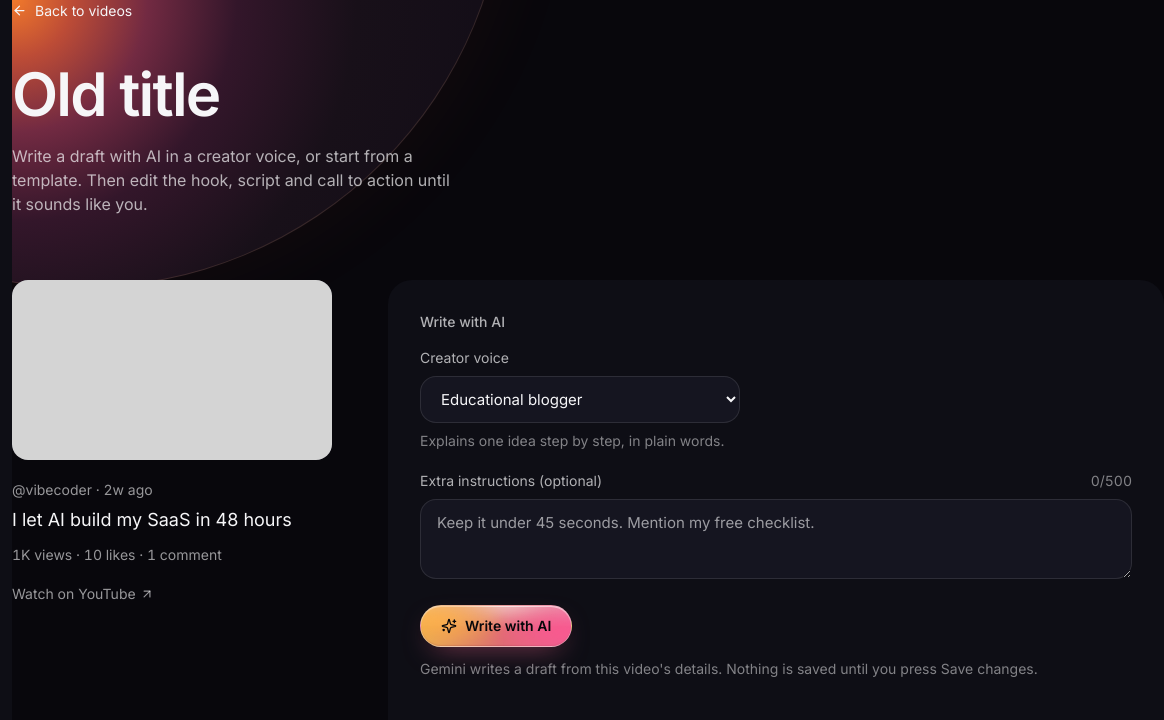
Test case: Write with AI: writes left today › shows nothing before the first write, then the remaining line under the helper text
expect the heading "Write with AI" is shown: met, box [420,313,505,330]
Click the button "Write with AI".
click(496, 626)  # box [420,605,572,647]
(page scrolled)
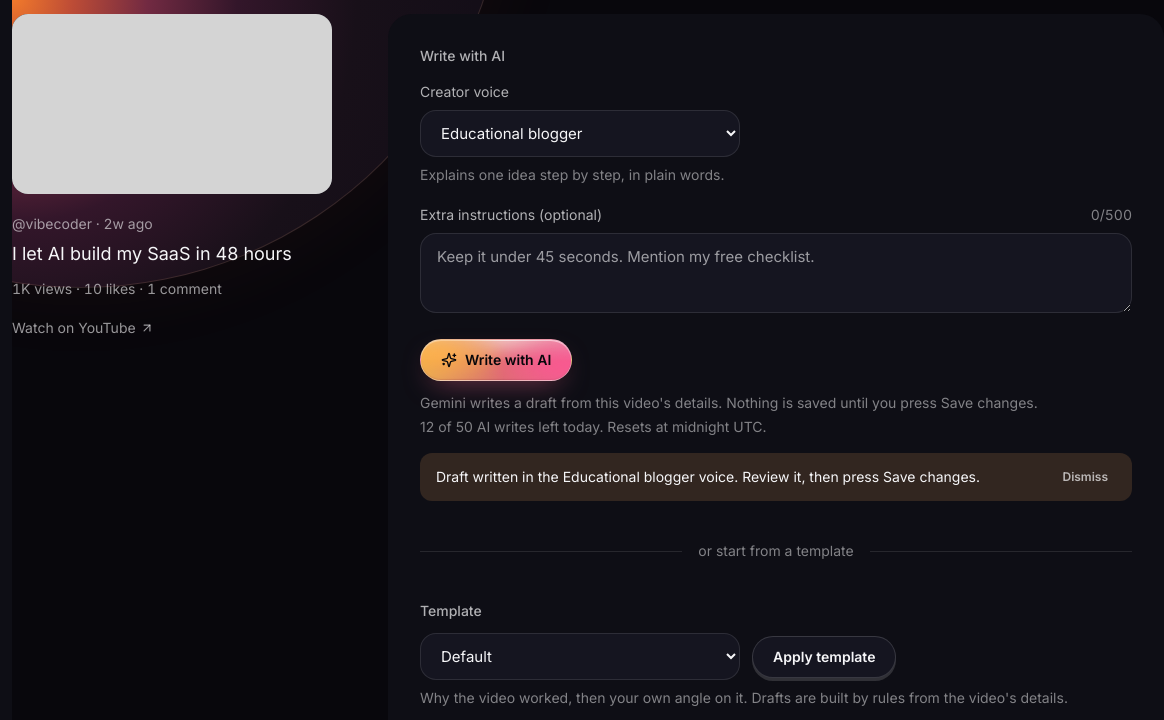
expect the text with id "ai-writes-left" reads "12 of 50 AI writes left today. Resets at midnight UTC.": met, box [420,418,767,435]
